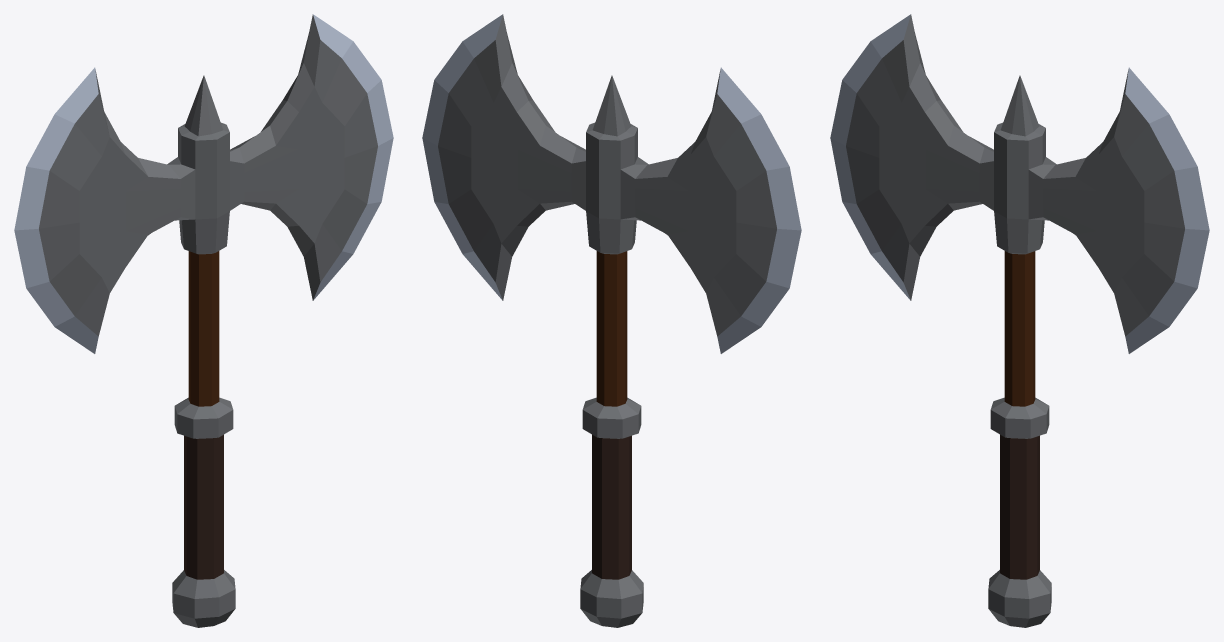
The model's file is Axe.fbx.
3 views of the same model, side by side, from view 1: azimuth 30°, elevation 25°; view 2: azimuth 150°, elevation 25°; view 3: azimuth 330°, elevation 25° (orthographic).
Parts seen in each view (by area): view 1: Axel the axe; view 2: Axel the axe; view 3: Axel the axe.
Part boxes in pixels (x1=…): Axel the axe: x1=14, y1=14, x2=393, y2=627; Axel the axe: x1=422, y1=14, x2=801, y2=627; Axel the axe: x1=830, y1=14, x2=1209, y2=627.
Bounding box in the file's own units: 62.26 × 90.68 × 8.73.
